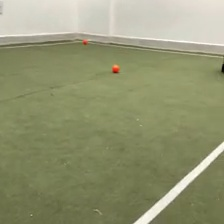ball: (111, 63, 120, 73), (82, 37, 89, 45)
